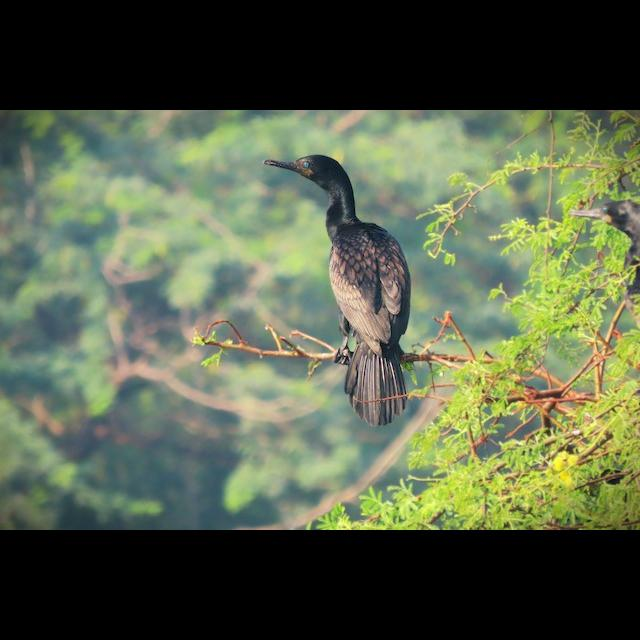cormorant: (254, 140, 420, 436), (564, 191, 640, 317)
